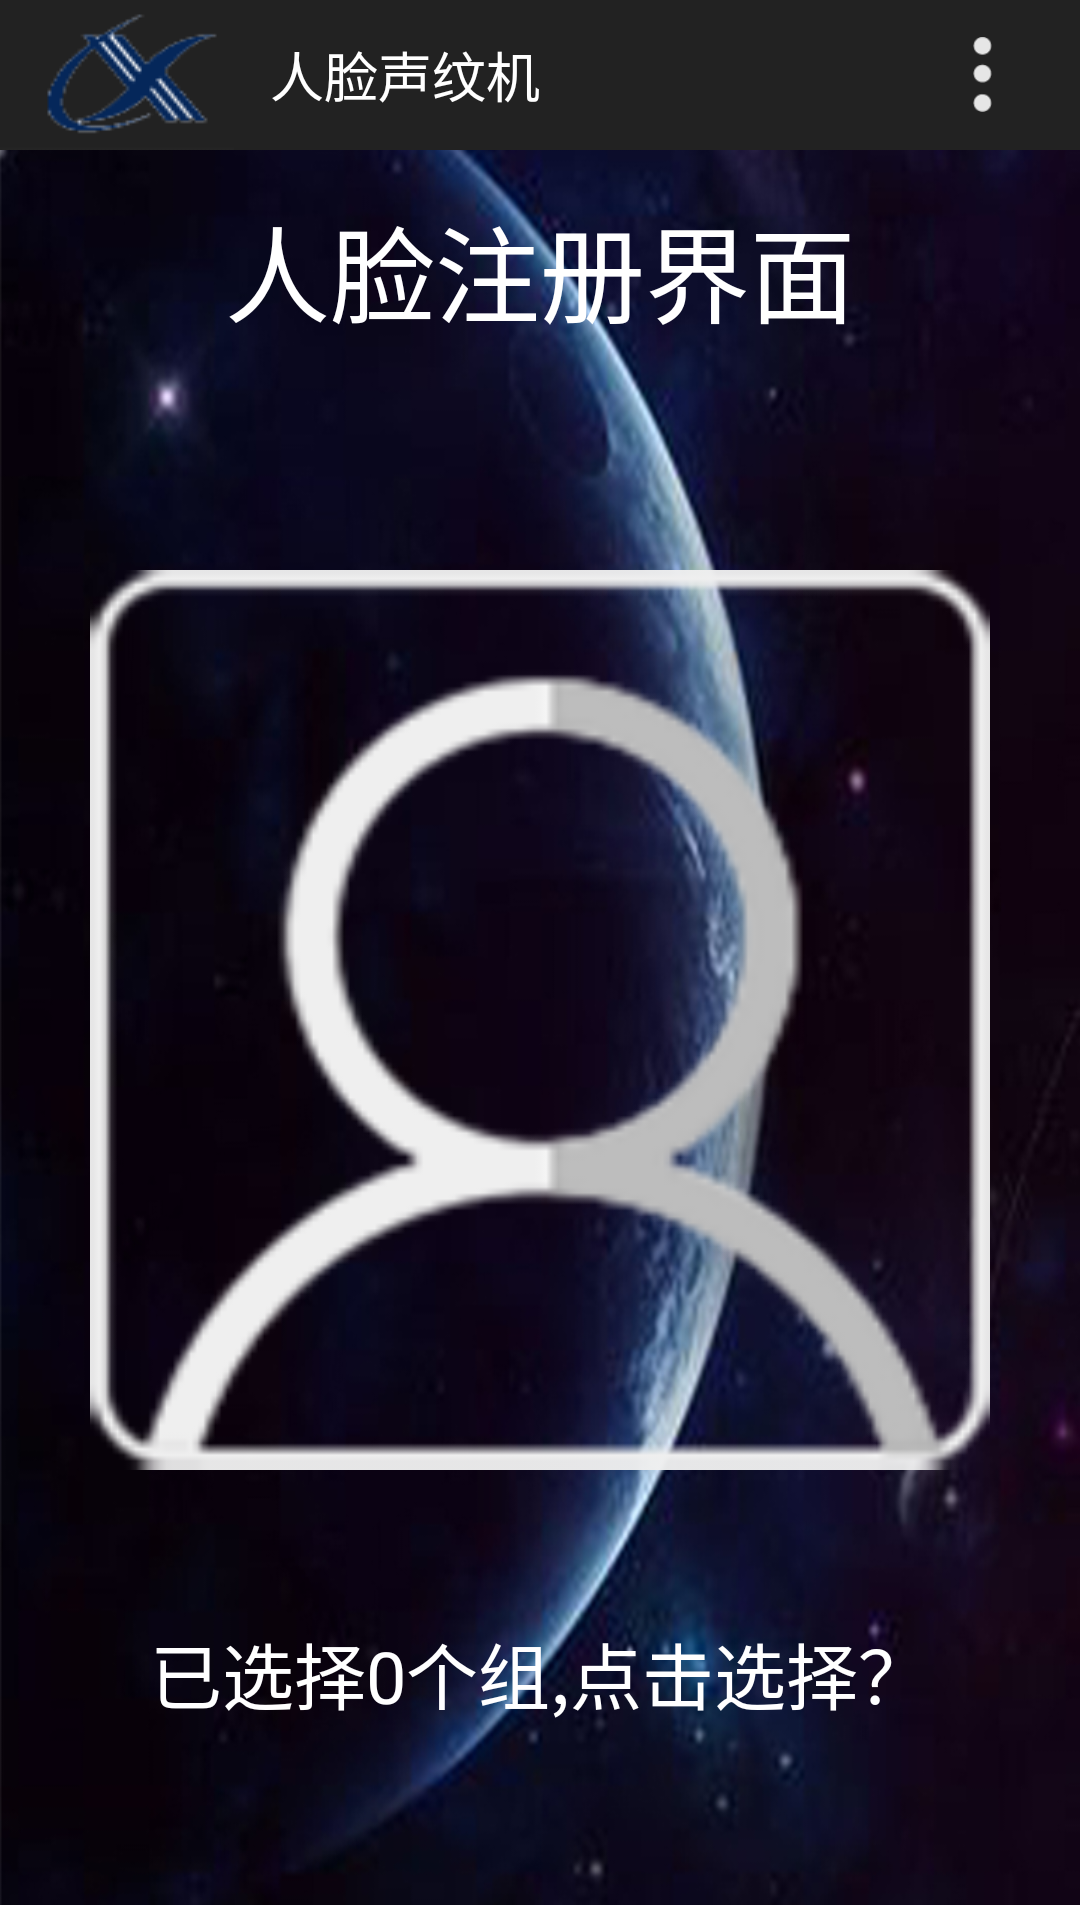

Icons on this 1080×1920 Android screen, each with the point to tap as [x,y]:
more: [982,74]
